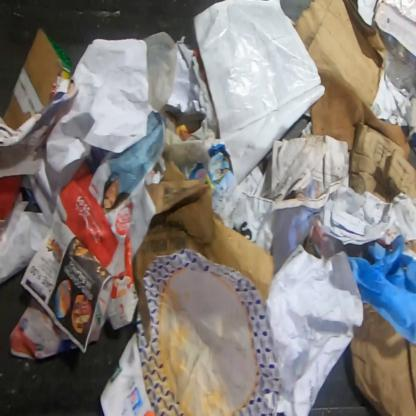cardboard: (132, 160, 275, 347), (292, 0, 412, 161), (348, 301, 415, 415), (0, 26, 72, 132), (350, 122, 416, 203)
